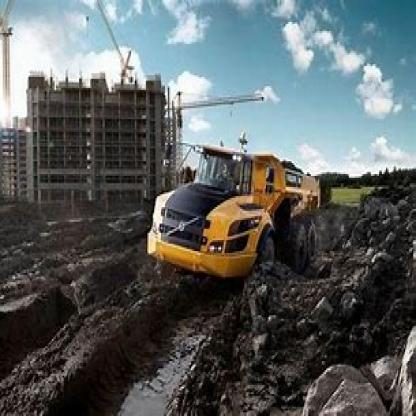dump_truck: (142, 126, 353, 278)
